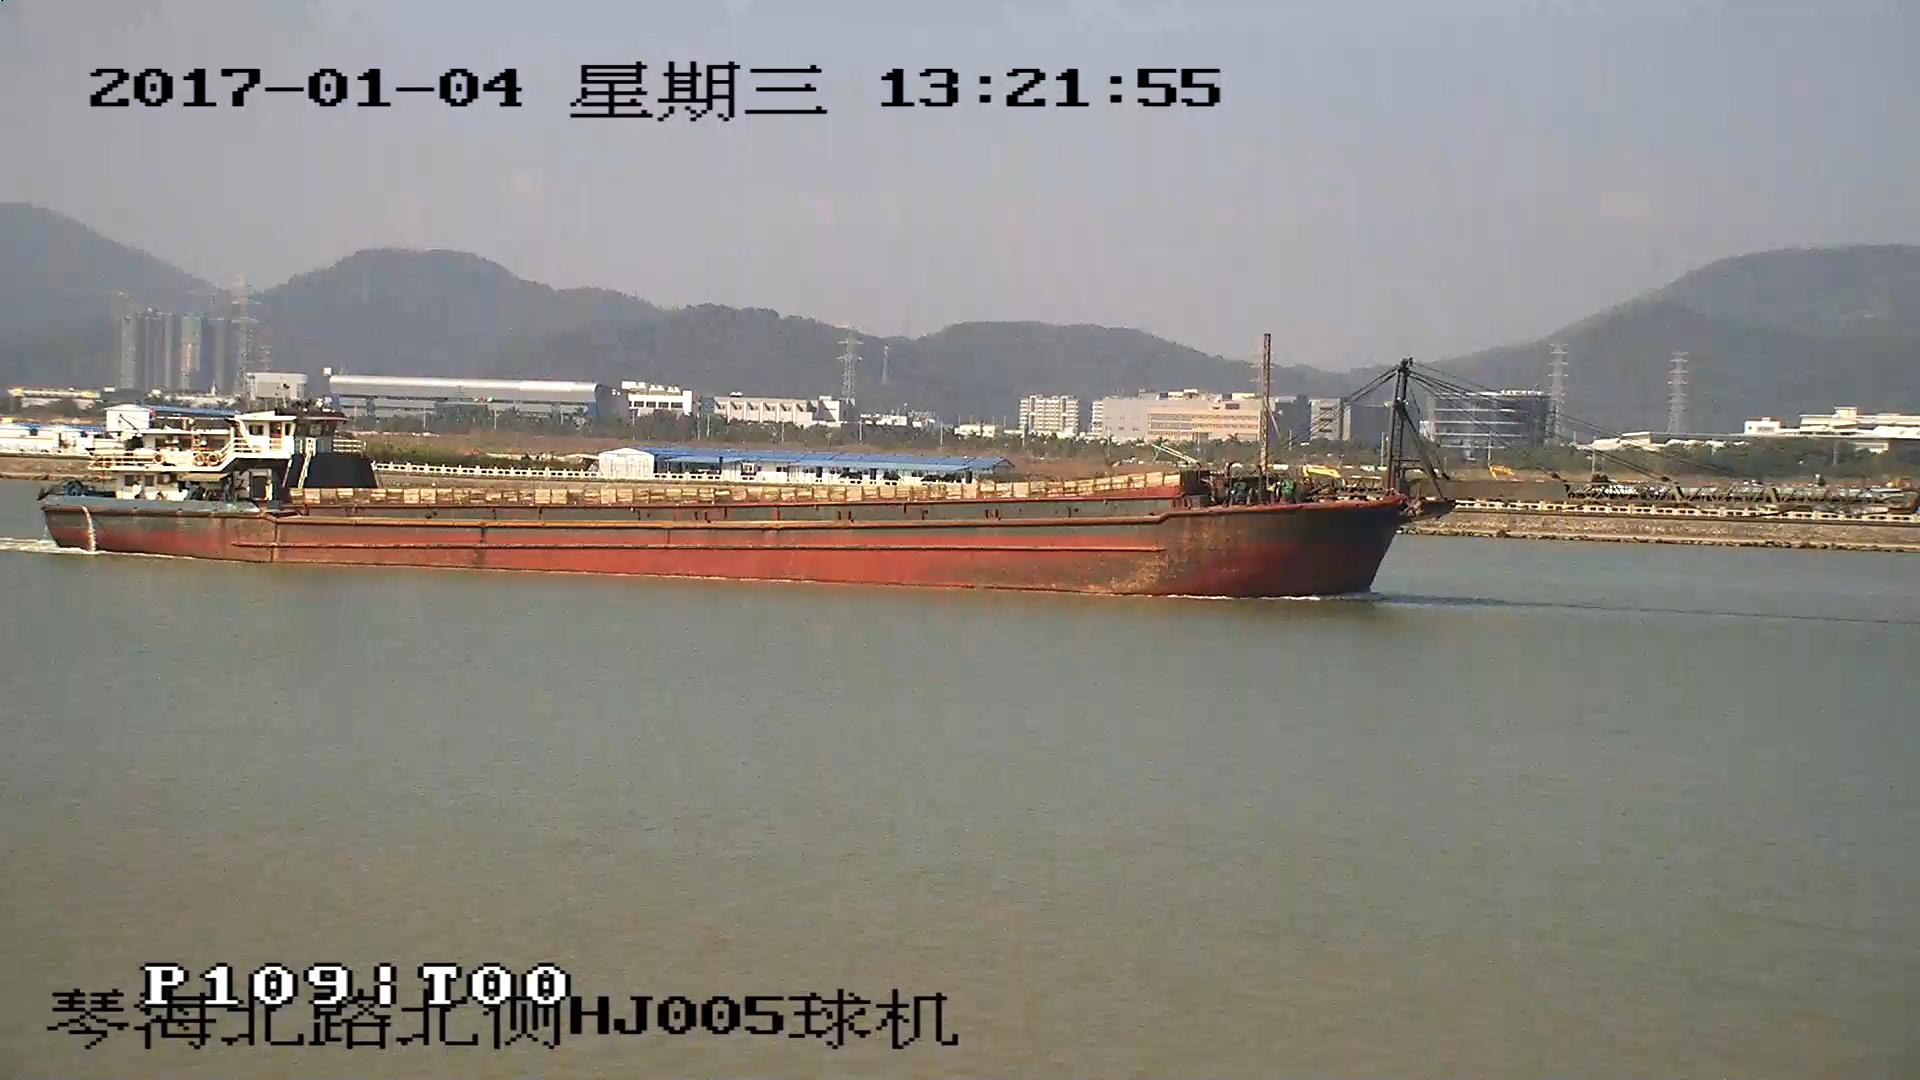bulk cargo carrier: (40, 362, 1768, 596)
